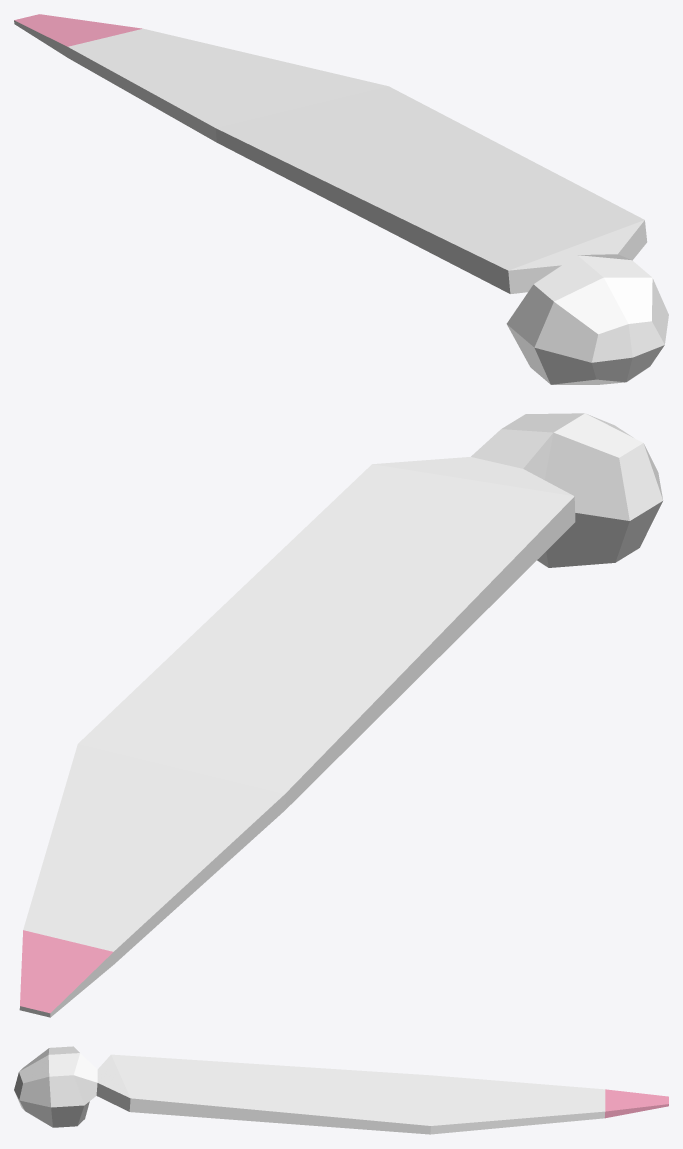
Rendered from WingR.fbx.
3 renders of one model, top to bottom at view 1: azimuth 30°, elevation 25°; view 2: azimuth 150°, elevation 25°; view 3: azimuth 270°, elevation 25°, orthographic. The views are drawn at different scales.
Parts seen in each view (by area): view 1: WingR; view 2: WingR; view 3: WingR.
Part boxes in pixels (x1=…): WingR: x1=14, y1=14, x2=668, y2=384; WingR: x1=19, y1=413, x2=663, y2=1017; WingR: x1=14, y1=1046, x2=668, y2=1134.
Bounding box in the file's own units: 13.02 × 7.72 × 67.56.
